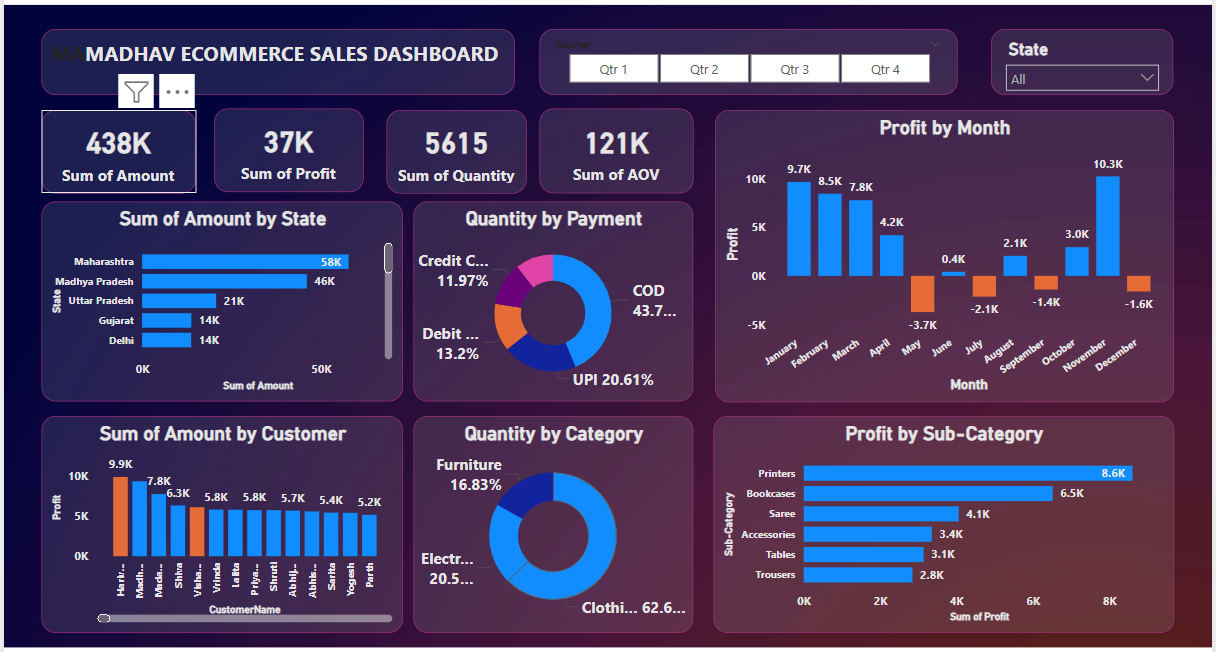

This screenshot's page, from the dashboard's own definition file:
{"tool":"powerbi","page":{"name":"Page 1","canvas":[1280,720],"ordinal":0},"visuals":[{"type":"textbox","box":[40,41.7,501.7,70],"z":0},{"type":"columnChart","title":"Profit by Month","fields":{"Y":["Sum(Details.Profit)"],"Category":["Orders.Order Date.Variation.Date Hierarchy.Month"]},"box":[753.3,126.7,486.7,310],"z":1000},{"type":"barChart","title":"Profit by Sub-Category","fields":{"Category":["Details.Sub-Category"],"Y":["Sum(Details.Profit)"]},"box":[751.7,451.7,488.3,230],"z":2000},{"type":"donutChart","title":"Quantity by Category","fields":{"Category":["Details.Category"],"Y":["Sum(Details.Quantity)"]},"box":[435,451.7,296.7,230],"z":3000},{"type":"donutChart","title":"Quantity by Payment","fields":{"Y":["Sum(Details.Quantity)"],"Category":["Details.PaymentMode"]},"box":[435,225,296.7,211.7],"z":4000},{"type":"card","fields":{"Values":["Sum(Details.Amount)"]},"box":[40,126.7,163.3,88.3],"z":5000},{"type":"card","fields":{"Values":["Sum(Details.Profit)"]},"box":[223.3,125,158.3,88.3],"z":6000},{"type":"card","fields":{"Values":["Sum(Details.Quantity)"]},"box":[405,126.7,148.3,88.3],"z":7000},{"type":"card","fields":{"Values":["Sum(Details.AOV)"]},"box":[568.3,125,163.3,90],"z":8000},{"type":"barChart","title":"Sum of Amount by State","fields":{"Category":["Orders.State"],"Y":["Sum(Details.Amount)"]},"box":[40,225,383.3,211.7],"z":9000},{"type":"columnChart","title":"Sum of Amount by Customer","fields":{"Category":["Orders.CustomerName"],"Y":["Sum(Details.Amount)"]},"box":[40,451.7,383.3,230],"z":10000},{"type":"slicer","fields":{"Values":["Orders.Order Date.Variation.Date Hierarchy.Quarter"]},"box":[568.3,41.7,443.3,70],"z":11000},{"type":"slicer","fields":{"Values":["Orders.State"]},"box":[1046.7,41.7,193.3,70],"z":12000}]}

Visuals, with their boxes on the page's 1280x720 design canvas (x1, y1, x2, y2). These are canvas units, not pixel positions in the 1216x652 screenshot, which may show the page scaled, cropped or inside an application window:
textbox: 40:42:542:112
"Profit by Month" columnChart: 753:127:1240:437
"Profit by Sub-Category" barChart: 752:452:1240:682
"Quantity by Category" donutChart: 435:452:732:682
"Quantity by Payment" donutChart: 435:225:732:437
card - Sum(Details.Amount): 40:127:203:215
card - Sum(Details.Profit): 223:125:382:213
card - Sum(Details.Quantity): 405:127:553:215
card - Sum(Details.AOV): 568:125:732:215
"Sum of Amount by State" barChart: 40:225:423:437
"Sum of Amount by Customer" columnChart: 40:452:423:682
slicer - Orders.Order Date.Variation.Date Hierarchy.Quarter: 568:42:1012:112
slicer - Orders.State: 1047:42:1240:112
